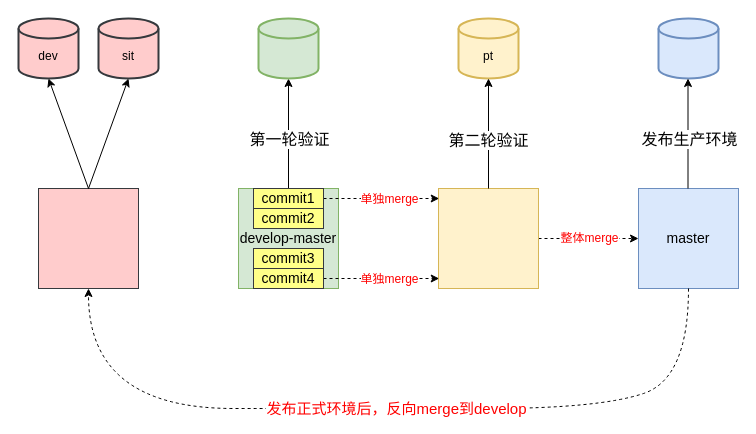
This 756x434 diagram has some shape labels left out. Each missing label, with the centre of its shape:
"develop" belongs at [88,238].
"master-online" belongs at [488,238].
"prod" belongs at [688,48].
"uat" belongs at [288,48].
